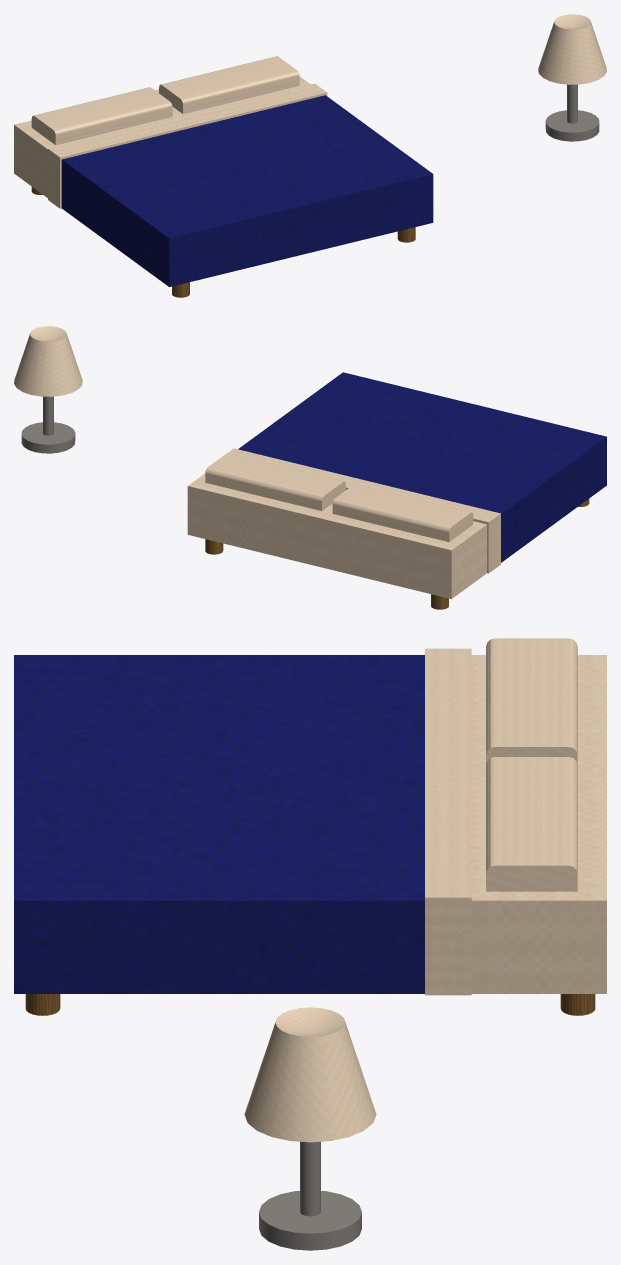
Rendered from Double Bed.fbx.
3 renders of one model, top to bottom at view 1: azimuth 30°, elevation 25°; view 2: azimuth 150°, elevation 25°; view 3: azimuth 270°, elevation 25°, orthographic. The views are drawn at different scales.
Visible parts, largest first — view 1: pCube26; view 2: pCube26; view 3: pCube26.
Part boxes in pixels (x1,y1,x2,y2): pCube26: (14,14,606,297); pCube26: (14,326,606,609); pCube26: (14,638,606,1250).
Size of the model in its own units: 24.24 by 4.89 by 12.73.
